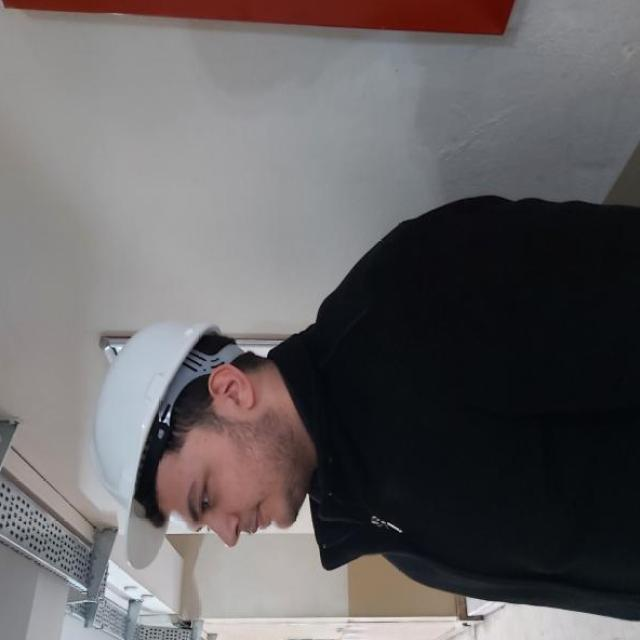helmet: (94, 320, 247, 569)
